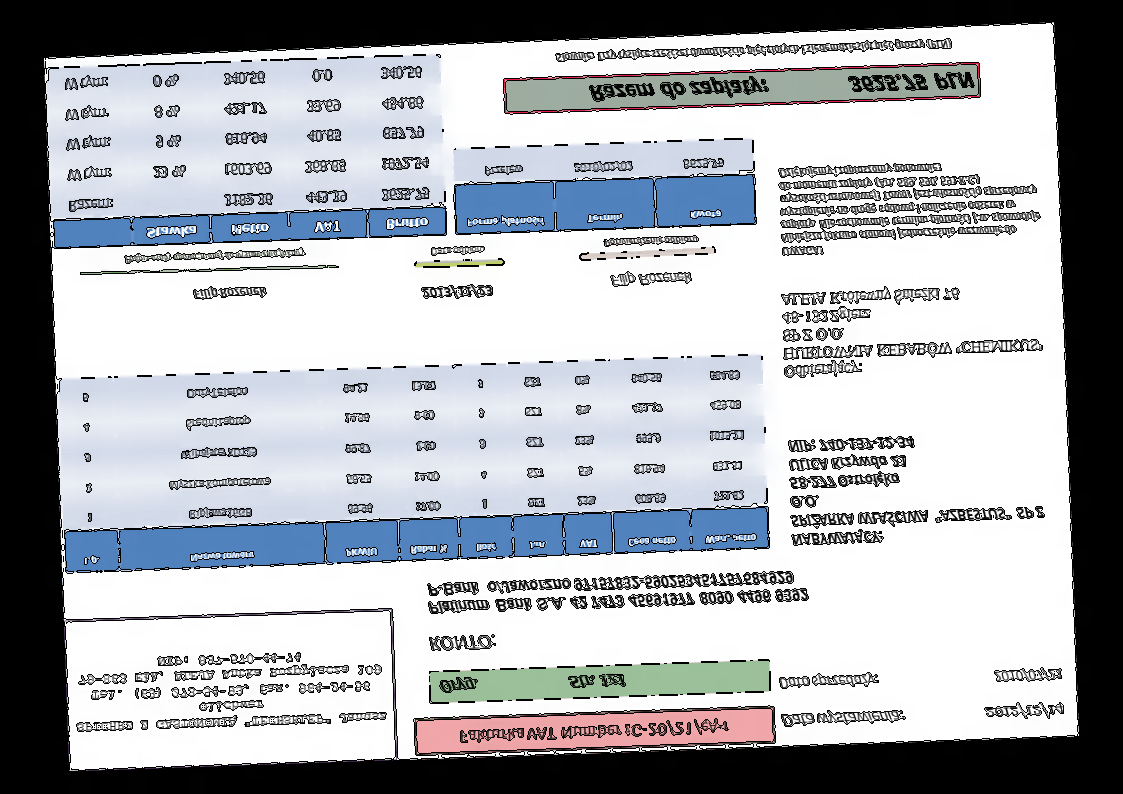Table: (57, 353, 771, 575), (45, 54, 447, 250), (451, 135, 759, 238)
TextBox: (786, 428, 1050, 548), (73, 645, 387, 736), (777, 157, 1043, 259), (779, 282, 1045, 379), (425, 565, 813, 618), (586, 67, 975, 107), (552, 35, 954, 65), (456, 715, 733, 747), (438, 669, 628, 697), (122, 246, 308, 266), (777, 707, 908, 730), (775, 670, 881, 691), (607, 268, 695, 290), (983, 700, 1066, 722), (601, 233, 701, 249), (418, 281, 494, 302), (990, 665, 1065, 686), (192, 283, 267, 304), (427, 632, 498, 653), (426, 242, 486, 259)
